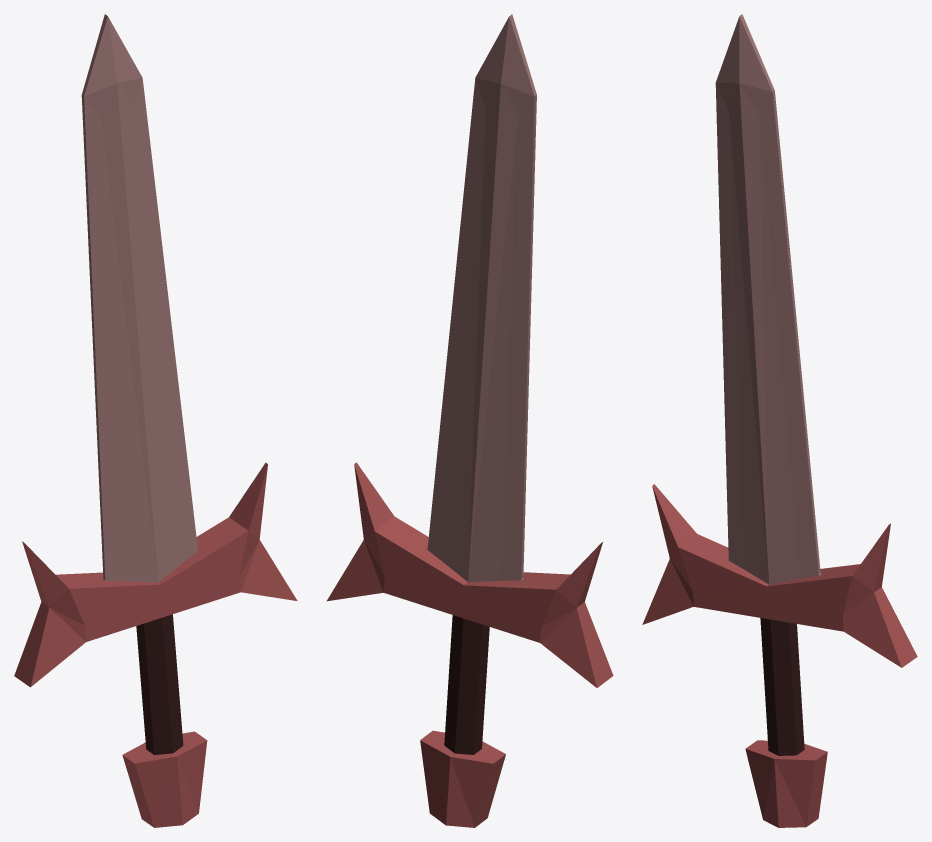
File: dragonslayer_weapon.glb
3 views of the same model, side by side, from view 1: azimuth 30°, elevation 25°; view 2: azimuth 150°, elevation 25°; view 3: azimuth 330°, elevation 25° (orthographic). The views are drawn at different scales.
Visible parts, largest first — view 1: dragonslayer_weapon; view 2: dragonslayer_weapon; view 3: dragonslayer_weapon.
Part boxes in pixels (<box>): dragonslayer_weapon: <box>14,14,297,827</box>; dragonslayer_weapon: <box>327,14,613,827</box>; dragonslayer_weapon: <box>642,14,917,827</box>.
Size of the model in its own units: 0.3445 by 1 by 0.0574.
